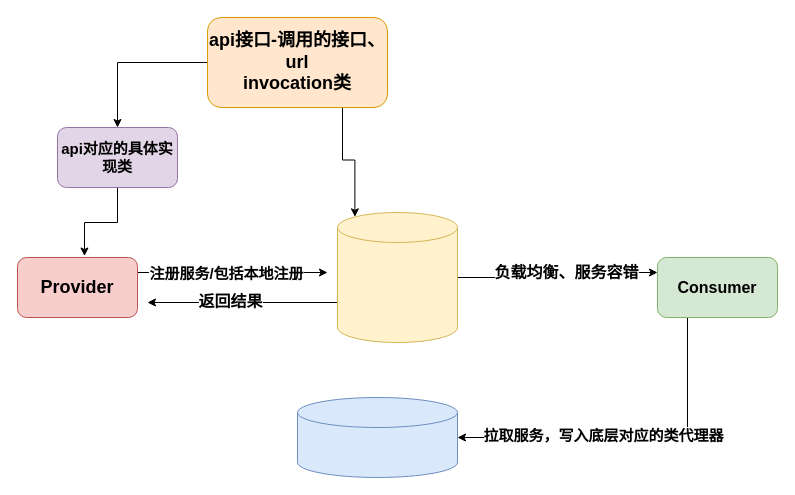
This 795x495 diagram has some shape labels left out. Here are the shapes that lost their labels. From the top down, the centre of each, then its label:
At point (397, 277): "注册中心".
At point (377, 437): "服务器--处理逻辑 返回结果-".
